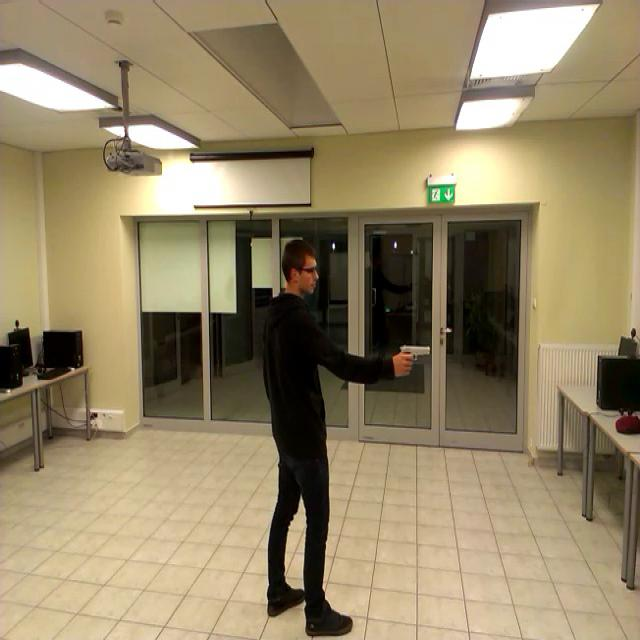handgun: (396, 334, 436, 378)
